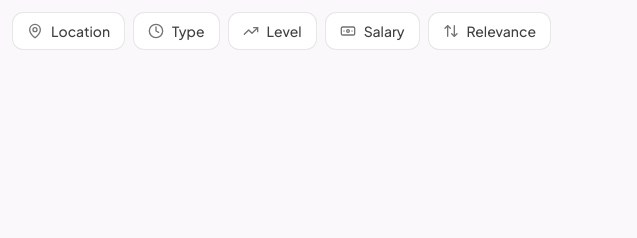
it: ToolbarFilters Component › Relevance Dropdown (media_1790280905744.png) › opens menu and renders Most relevant, Newest, Name A-Z
This screenshot has width=637, height=238.
Click the button "Relevance": (489, 31) [428,12,551,50]
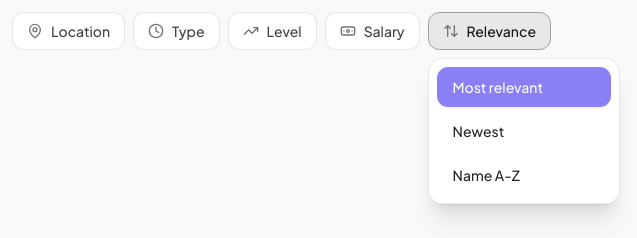
Result: the menu named "sort options" is shown at [428,58,620,204]
Result: the menu item "Most relevant" is shown at [437,67,611,107]
Result: the menu item "Newest" is shown at [437,111,611,151]
